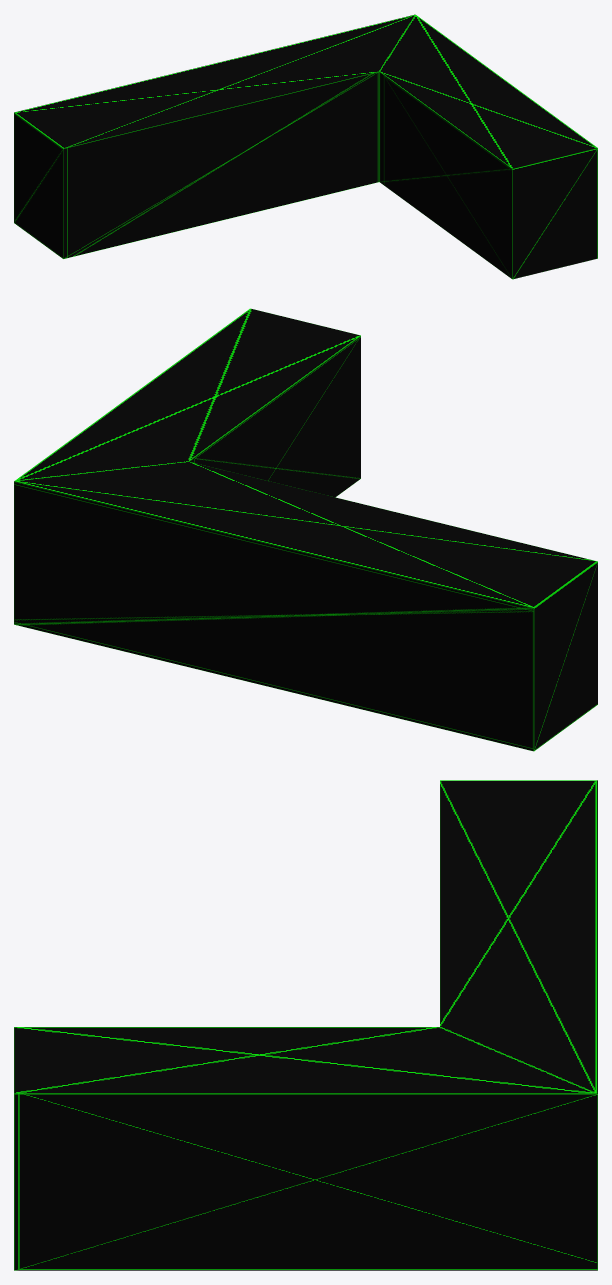
The model's file is house4.FBX.
3 views of the same model, one above another, from view 1: azimuth 30°, elevation 25°; view 2: azimuth 150°, elevation 25°; view 3: azimuth 270°, elevation 25° (orthographic). The views are drawn at different scales.
Visible parts, largest first — view 1: L-Ext001; view 2: L-Ext001; view 3: L-Ext001.
Boxes of the visible parts, <box> form: L-Ext001: <box>14,14,597,279</box>; L-Ext001: <box>14,308,597,751</box>; L-Ext001: <box>14,780,597,1270</box>.
Bounding box in the file's own units: 154 × 40.54 × 121.
